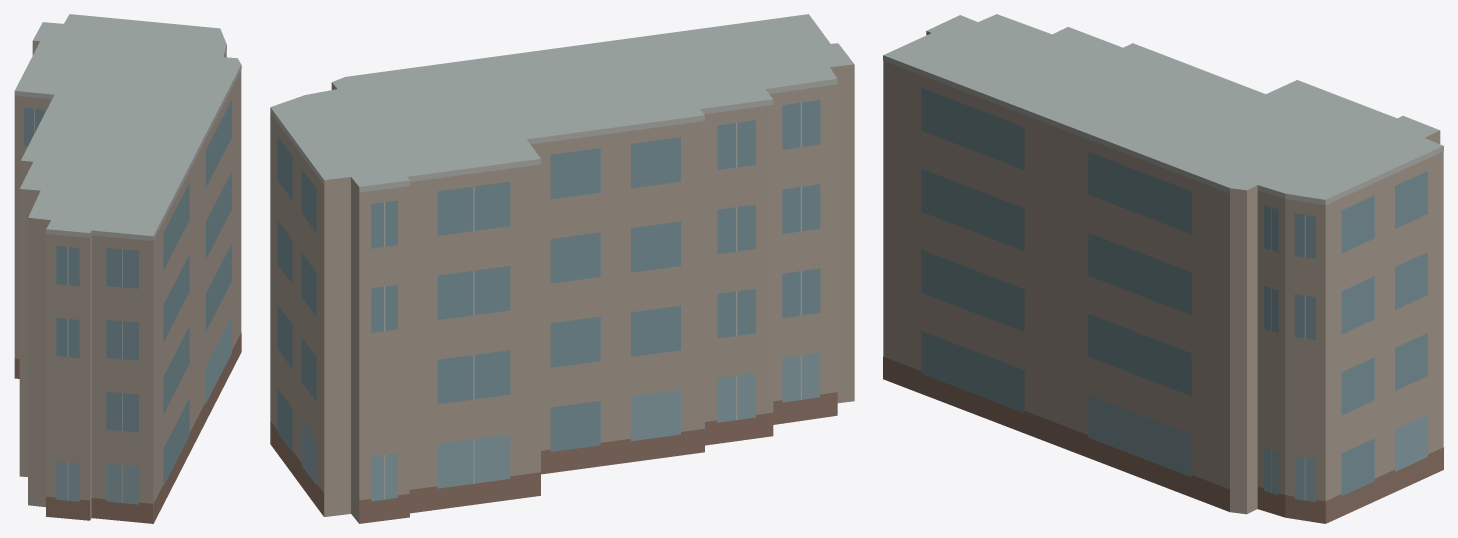
The model's file is survey-upis-32758139.glb.
3 views of the same model, side by side, from view 1: azimuth 30°, elevation 25°; view 2: azimuth 150°, elevation 25°; view 3: azimuth 270°, elevation 25° (orthographic). The views are drawn at different scales.
Visible parts, largest first — view 1: survey-upis-32758139.tmp; view 2: survey-upis-32758139.tmp; view 3: survey-upis-32758139.tmp.
Boxes of the visible parts, x1,y1,x2,y2 form: survey-upis-32758139.tmp: (14, 14, 241, 523); survey-upis-32758139.tmp: (270, 14, 854, 523); survey-upis-32758139.tmp: (883, 14, 1443, 523).
Size of the model in its own units: 17.95 by 14.58 by 22.87.
